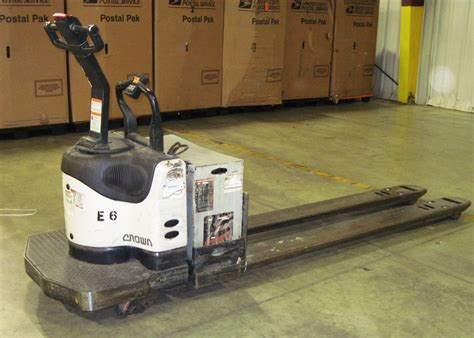Pallet Jack: (25, 12, 474, 320)
